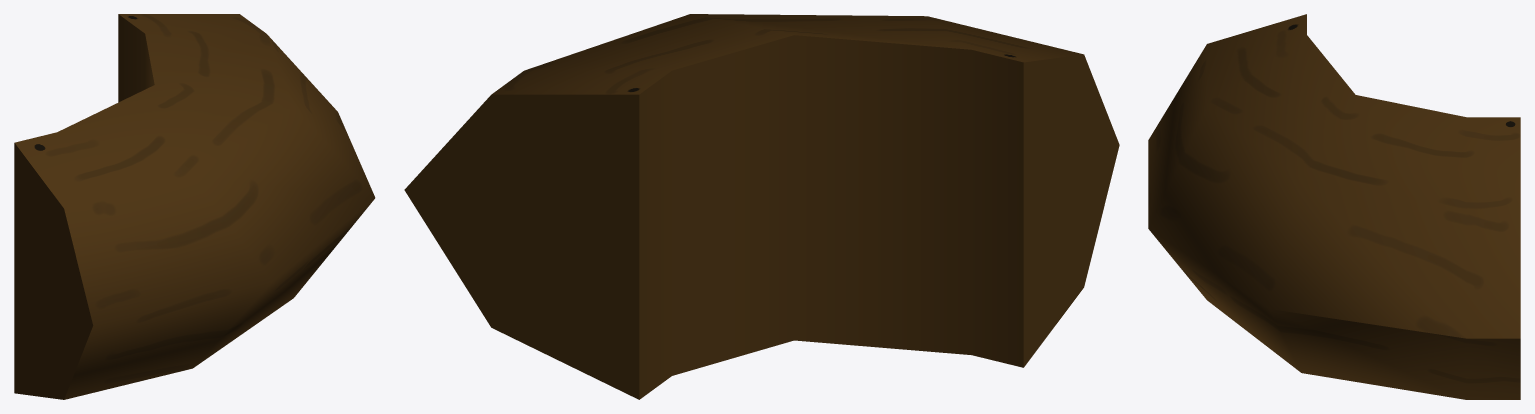
File: BridgeBorderCornerV2.fbx
The picture shows the model from 3 angles, left to right: view 1: azimuth 30°, elevation 25°; view 2: azimuth 150°, elevation 25°; view 3: azimuth 270°, elevation 25°; orthographic projection. The views are drawn at different scales.
Visible parts, largest first — view 1: BridgeBorderCornerV2; view 2: BridgeBorderCornerV2; view 3: BridgeBorderCornerV2.
Part boxes in pixels (box(x1,y1,x2,y2)): BridgeBorderCornerV2: box(14, 14, 375, 399); BridgeBorderCornerV2: box(404, 14, 1119, 399); BridgeBorderCornerV2: box(1148, 14, 1520, 399).
Size of the model in its own units: 151 by 90 by 120.
Materials: 1 (1 with a texture image).
